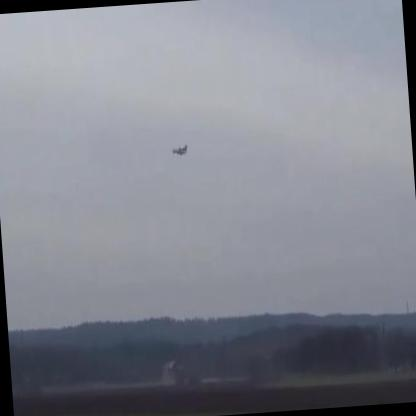plane: (172, 146, 189, 159)
